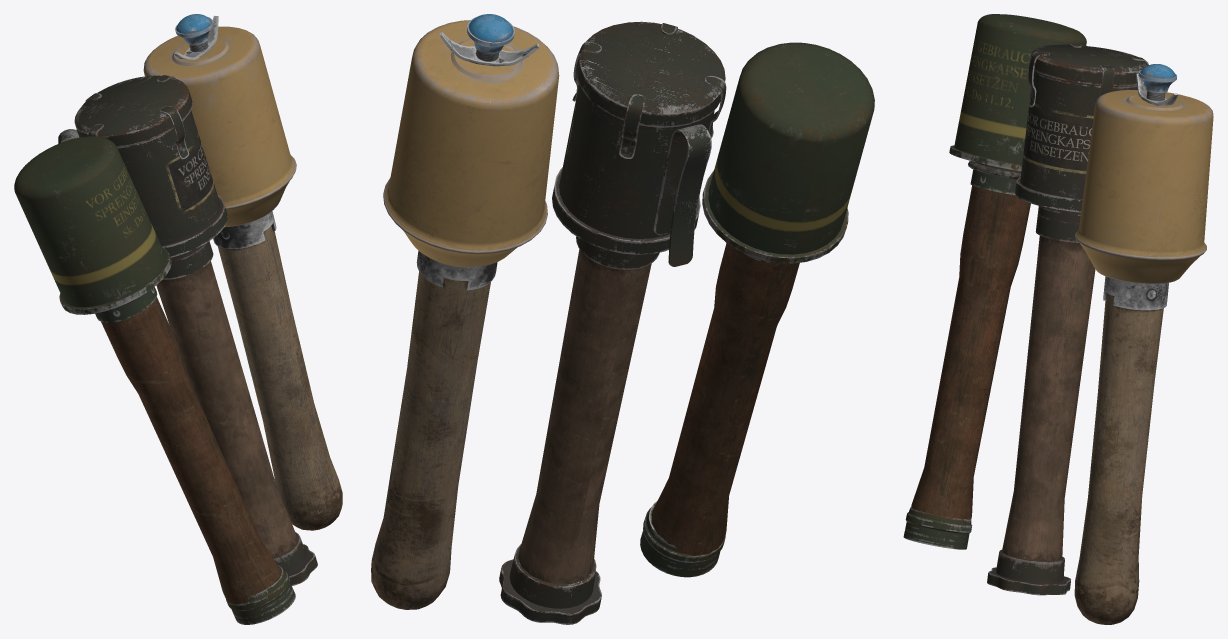
The model's file is german_stick_grenades_pack.glb.
3 renders of one model, left to right at view 1: azimuth 30°, elevation 25°; view 2: azimuth 150°, elevation 25°; view 3: azimuth 270°, elevation 25°, orthographic. The views are drawn at different scales.
Visible parts, largest first — view 1: Cylinder.028, Cylinder.027, Cylinder.002, Cylinder.019, Cylinder.025, Cylinder.017, Cylinder.029, Cylinder.011, Cube.004, Sphere.001, Cylinder.012, Cylinder.022 (+2 smaller); view 2: Cylinder.025, Cylinder.028, Cylinder.019, Cylinder.002, Cylinder.017, Cylinder.027, Cube.003, Cylinder.022, Cylinder.029, Cylinder.020, Cube.004, Cylinder.011 (+3 smaller); view 3: Cylinder.025, Cylinder.002, Cylinder.027, Cylinder.017, Cylinder.019, Cylinder.028, Cylinder.029, Cylinder.011, Cylinder.022, Cylinder.020, Cube.004, Sphere.001 (+1 smaller).
Part boxes in pixels (bbox=[...]): Cylinder.028: bbox=[14, 136, 171, 322]; Cylinder.027: bbox=[101, 297, 280, 611]; Cylinder.002: bbox=[217, 225, 342, 530]; Cylinder.019: bbox=[74, 75, 227, 279]; Cylinder.025: bbox=[143, 26, 296, 227]; Cylinder.017: bbox=[156, 261, 297, 557]; Cylinder.029: bbox=[226, 565, 295, 624]; Cylinder.011: bbox=[213, 211, 276, 248]; Cube.004: bbox=[85, 75, 189, 159]; Sphere.001: bbox=[175, 14, 213, 45]; Cylinder.012: bbox=[172, 38, 228, 65]; Cylinder.022: bbox=[273, 532, 306, 574]; Cylinder.025: bbox=[383, 20, 559, 267]; Cylinder.028: bbox=[702, 42, 874, 263]; Cylinder.019: bbox=[552, 21, 725, 269]; Cylinder.002: bbox=[371, 272, 490, 609]; Cylinder.017: bbox=[518, 249, 651, 584]; Cylinder.027: bbox=[652, 243, 799, 563]; Cube.003: bbox=[653, 124, 711, 266]; Cylinder.022: bbox=[509, 544, 596, 608]; Cylinder.029: bbox=[640, 501, 725, 577]; Cylinder.020: bbox=[499, 559, 601, 624]; Cube.004: bbox=[572, 23, 726, 158]; Cylinder.011: bbox=[416, 250, 497, 290]; Cylinder.025: bbox=[1075, 90, 1213, 283]; Cylinder.002: bbox=[1074, 293, 1163, 624]; Cylinder.027: bbox=[911, 185, 1030, 519]; Cylinder.017: bbox=[1002, 235, 1095, 561]; Cylinder.019: bbox=[1015, 44, 1148, 242]; Cylinder.028: bbox=[949, 14, 1086, 194]; Cylinder.029: bbox=[903, 507, 972, 549]; Cylinder.011: bbox=[1103, 276, 1168, 310]; Cylinder.022: bbox=[996, 549, 1064, 583]; Cylinder.020: bbox=[987, 567, 1070, 595]; Cube.004: bbox=[1028, 44, 1148, 107]; Sphere.001: bbox=[1138, 64, 1176, 92].
Size of the model in its own units: 13.99 by 19.72 by 10.6.
Materials: 3 (3 with a texture image).
